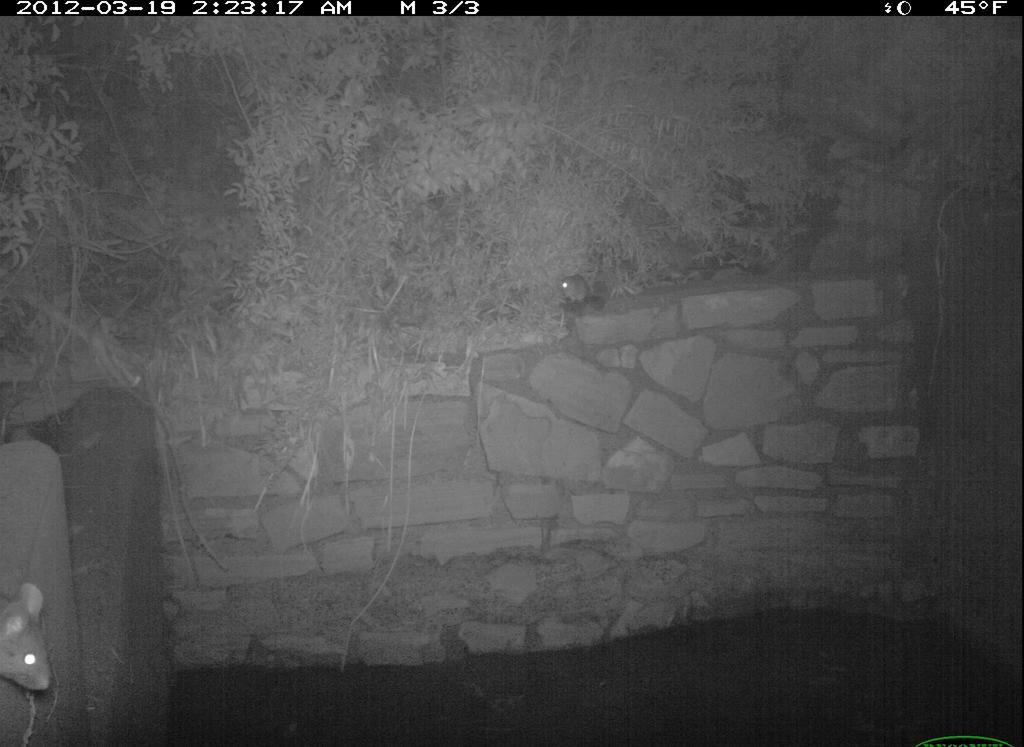rodent: (557, 276, 601, 307)
